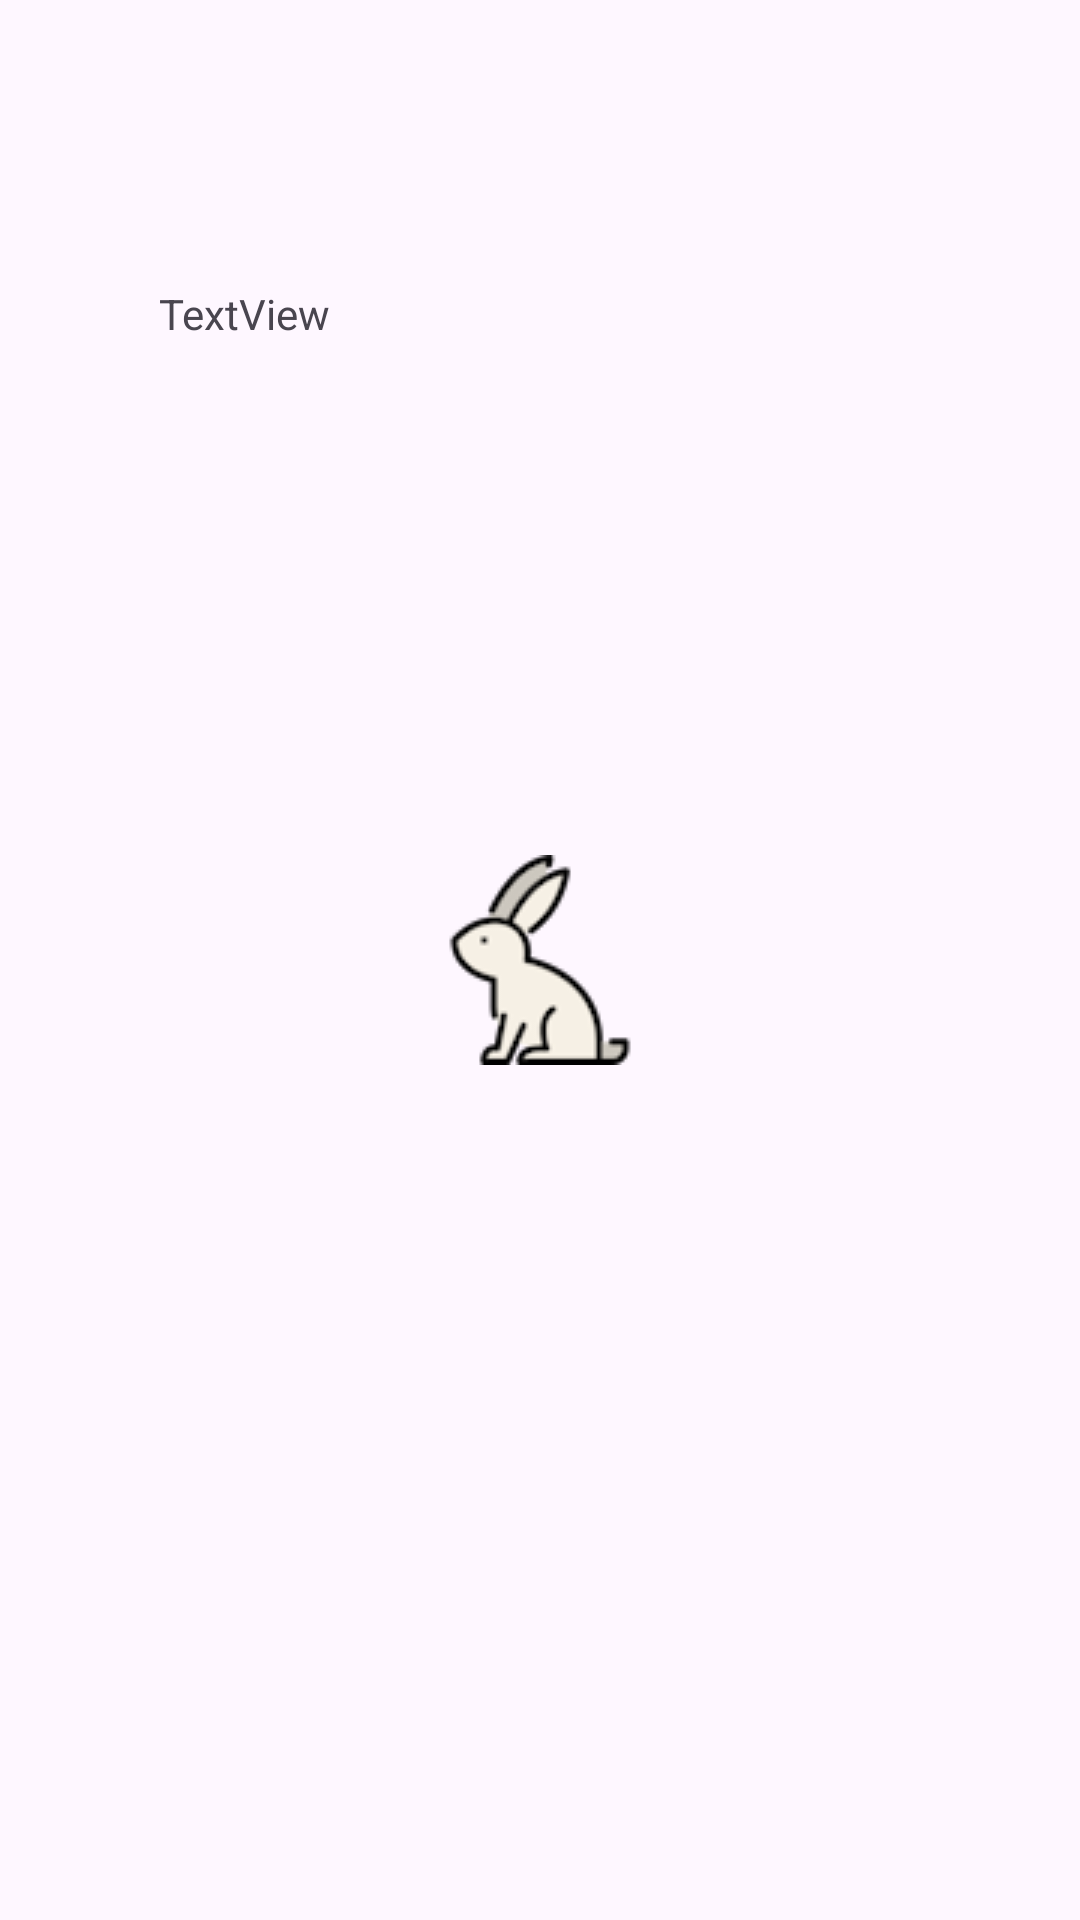

Screen size 1080w x 1920h. Icon name, then its center in pixels as point (x, y):
banny: point (540, 960)
